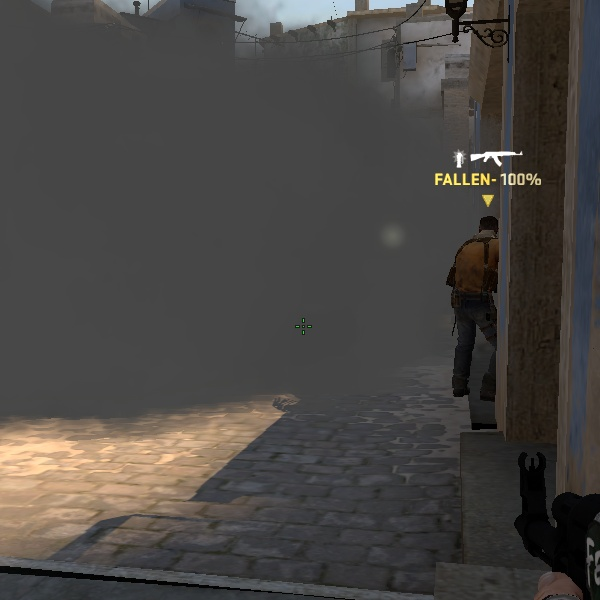t_body: (435, 192, 511, 409)
t_head: (469, 208, 501, 246)
